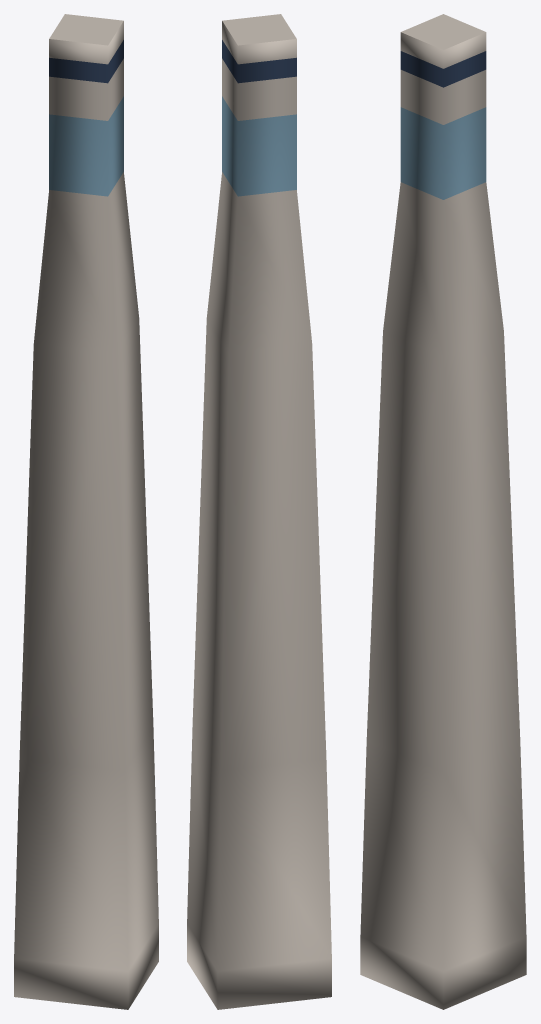
Rendered from BigSkorsten.fbx.
The picture shows the model from 3 angles, left to right: view 1: azimuth 30°, elevation 25°; view 2: azimuth 150°, elevation 25°; view 3: azimuth 270°, elevation 25°; orthographic projection.
Parts seen in each view (by area): view 1: Fabriks skorsten; view 2: Fabriks skorsten; view 3: Fabriks skorsten.
Part boxes in pixels (x1,y1,x2,y2): Fabriks skorsten: (14, 14, 158, 1009); Fabriks skorsten: (187, 14, 331, 1009); Fabriks skorsten: (360, 14, 526, 1009).
Size of the model in its own units: 436 by 2728 by 436.
